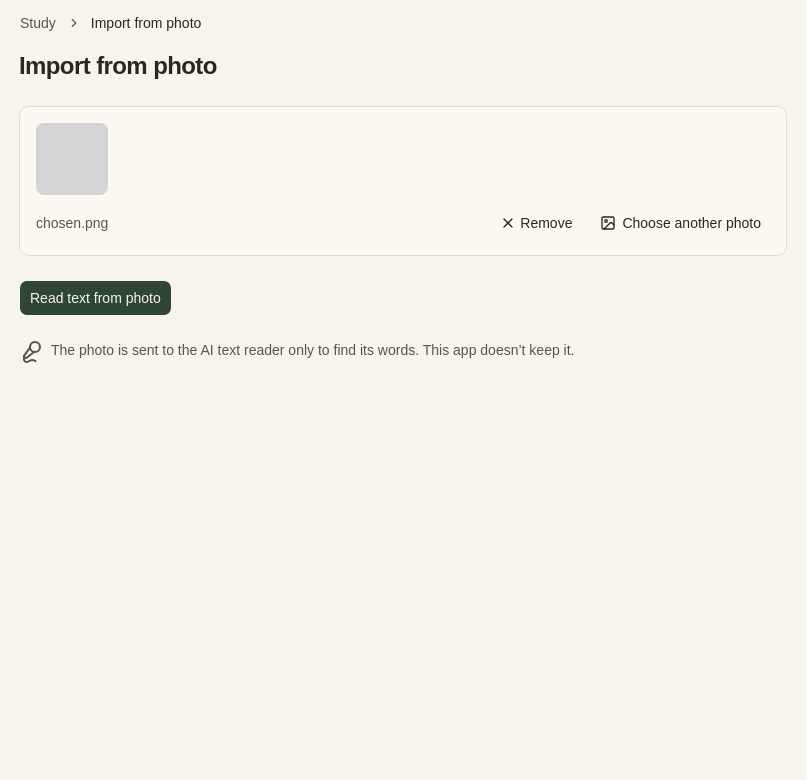
Test: restored study flows › ignores late OCR work after removing a photo while preparing
Click the button "Read text from photo" at (95, 298), box x1=19 y1=280 x2=172 y2=316
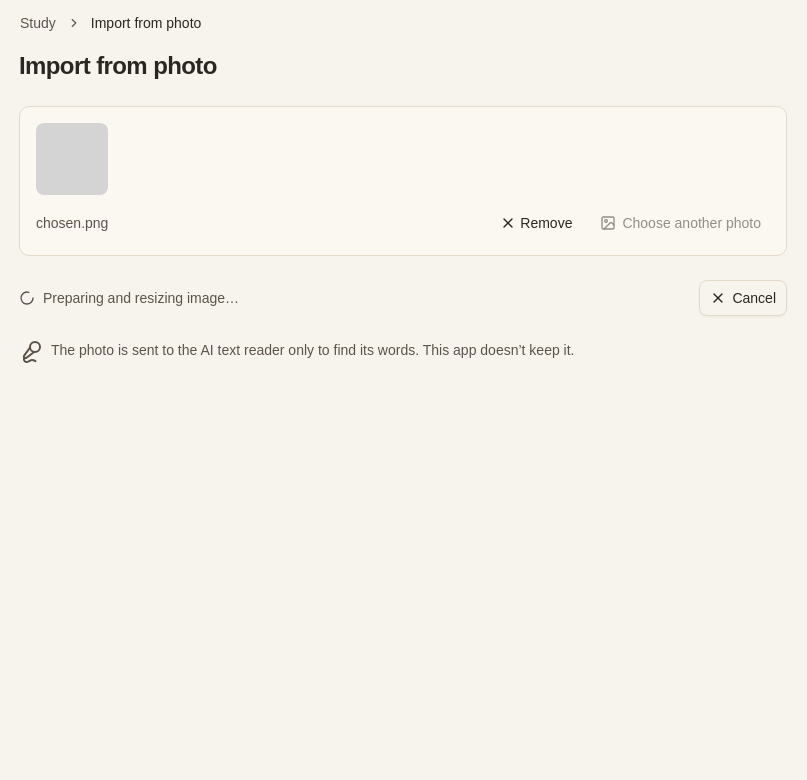
Click the button "Remove" at (536, 223), box x1=489 y1=207 x2=583 y2=239
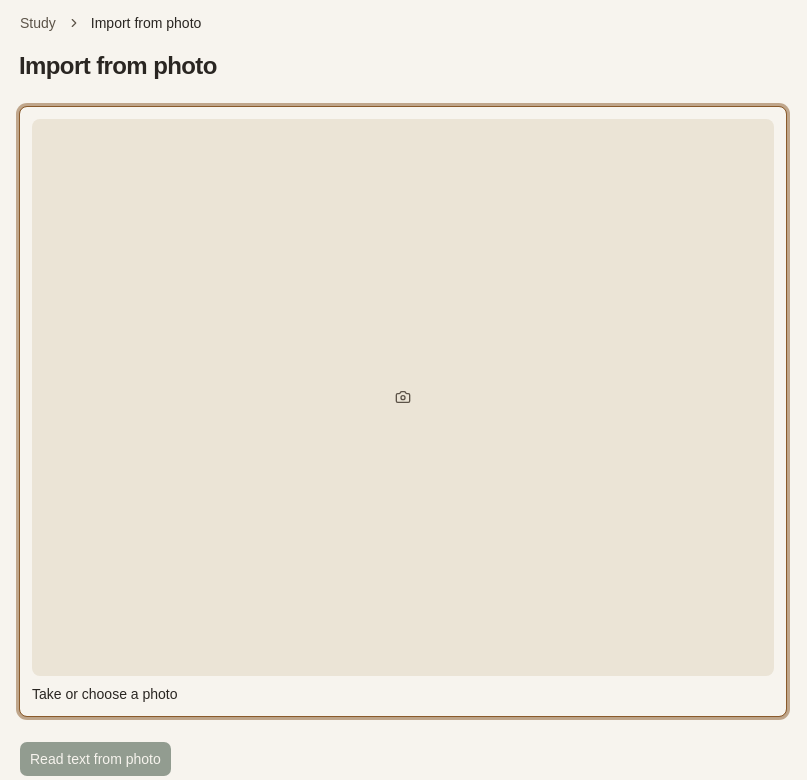
Expected: the button "Take or choose a photo" is shown
Expected: the text "Preparing and resizing" is gone
